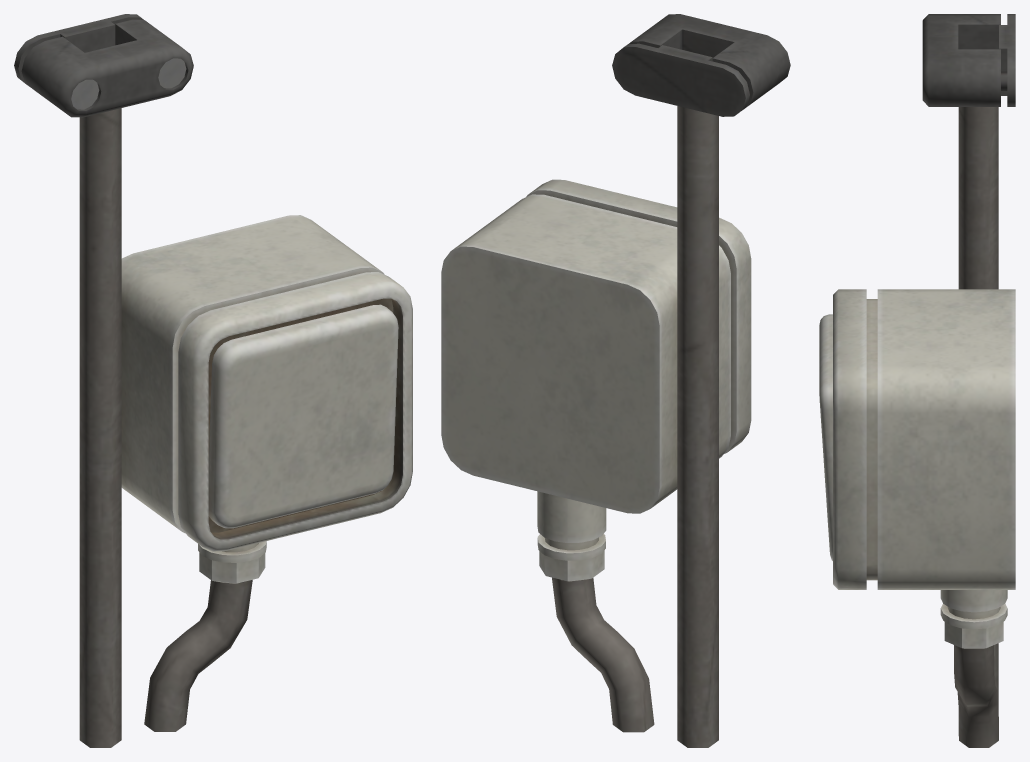
Rendered from cable_lightswitch_double.gltf.
3 views of the same model, side by side, from view 1: azimuth 30°, elevation 25°; view 2: azimuth 150°, elevation 25°; view 3: azimuth 270°, elevation 25° (orthographic). The views are drawn at different scales.
Visible parts, largest first — view 1: cable_lightswitch_double; view 2: cable_lightswitch_double; view 3: cable_lightswitch_double.
Boxes of the visible parts, x1,y1,x2,y2 form: cable_lightswitch_double: [14, 14, 412, 747]; cable_lightswitch_double: [441, 14, 790, 747]; cable_lightswitch_double: [819, 14, 1015, 747].
Bounding box in the file's own units: 0.0948 × 0.2073 × 0.0547.
1 material, 1 textured.
